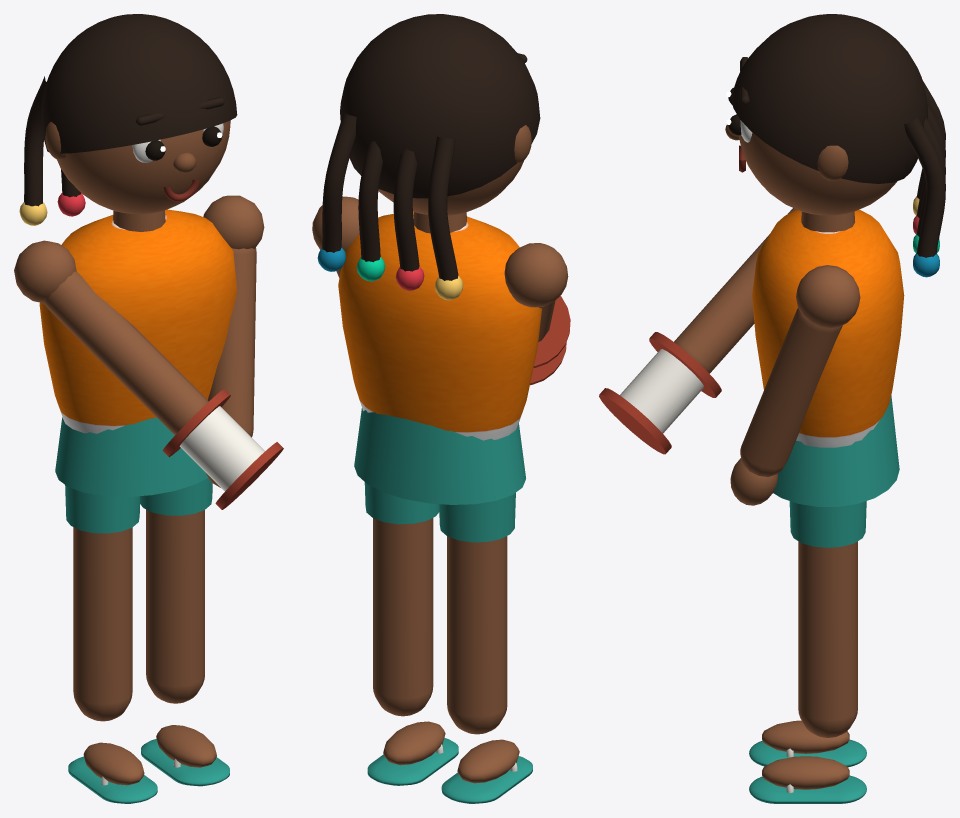
The model's file is trancinhas.glb.
The picture shows the model from 3 angles, left to right: view 1: azimuth 30°, elevation 25°; view 2: azimuth 150°, elevation 25°; view 3: azimuth 270°, elevation 25°; orthographic projection. The views are drawn at different scales.
Visible parts, largest first — view 1: trancinhas; view 2: trancinhas; view 3: trancinhas.
Boxes of the visible parts, box(x1,y1,x2,y2) form: trancinhas: box(14, 14, 283, 803); trancinhas: box(312, 14, 570, 803); trancinhas: box(599, 14, 945, 803).
Size of the model in its own units: 0.6326 by 1.86 by 0.7761.
Materials: 17 (1 with a texture image).
